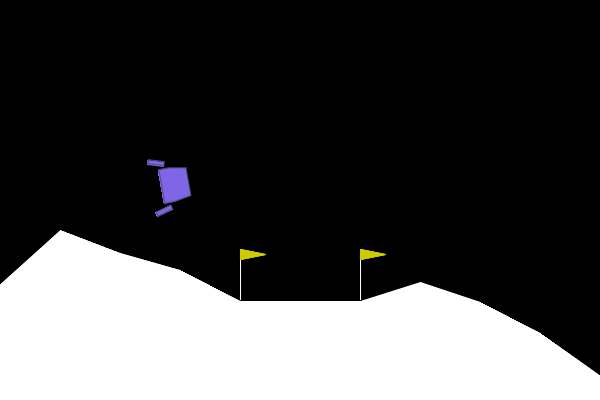lander: (145, 152, 195, 218)
